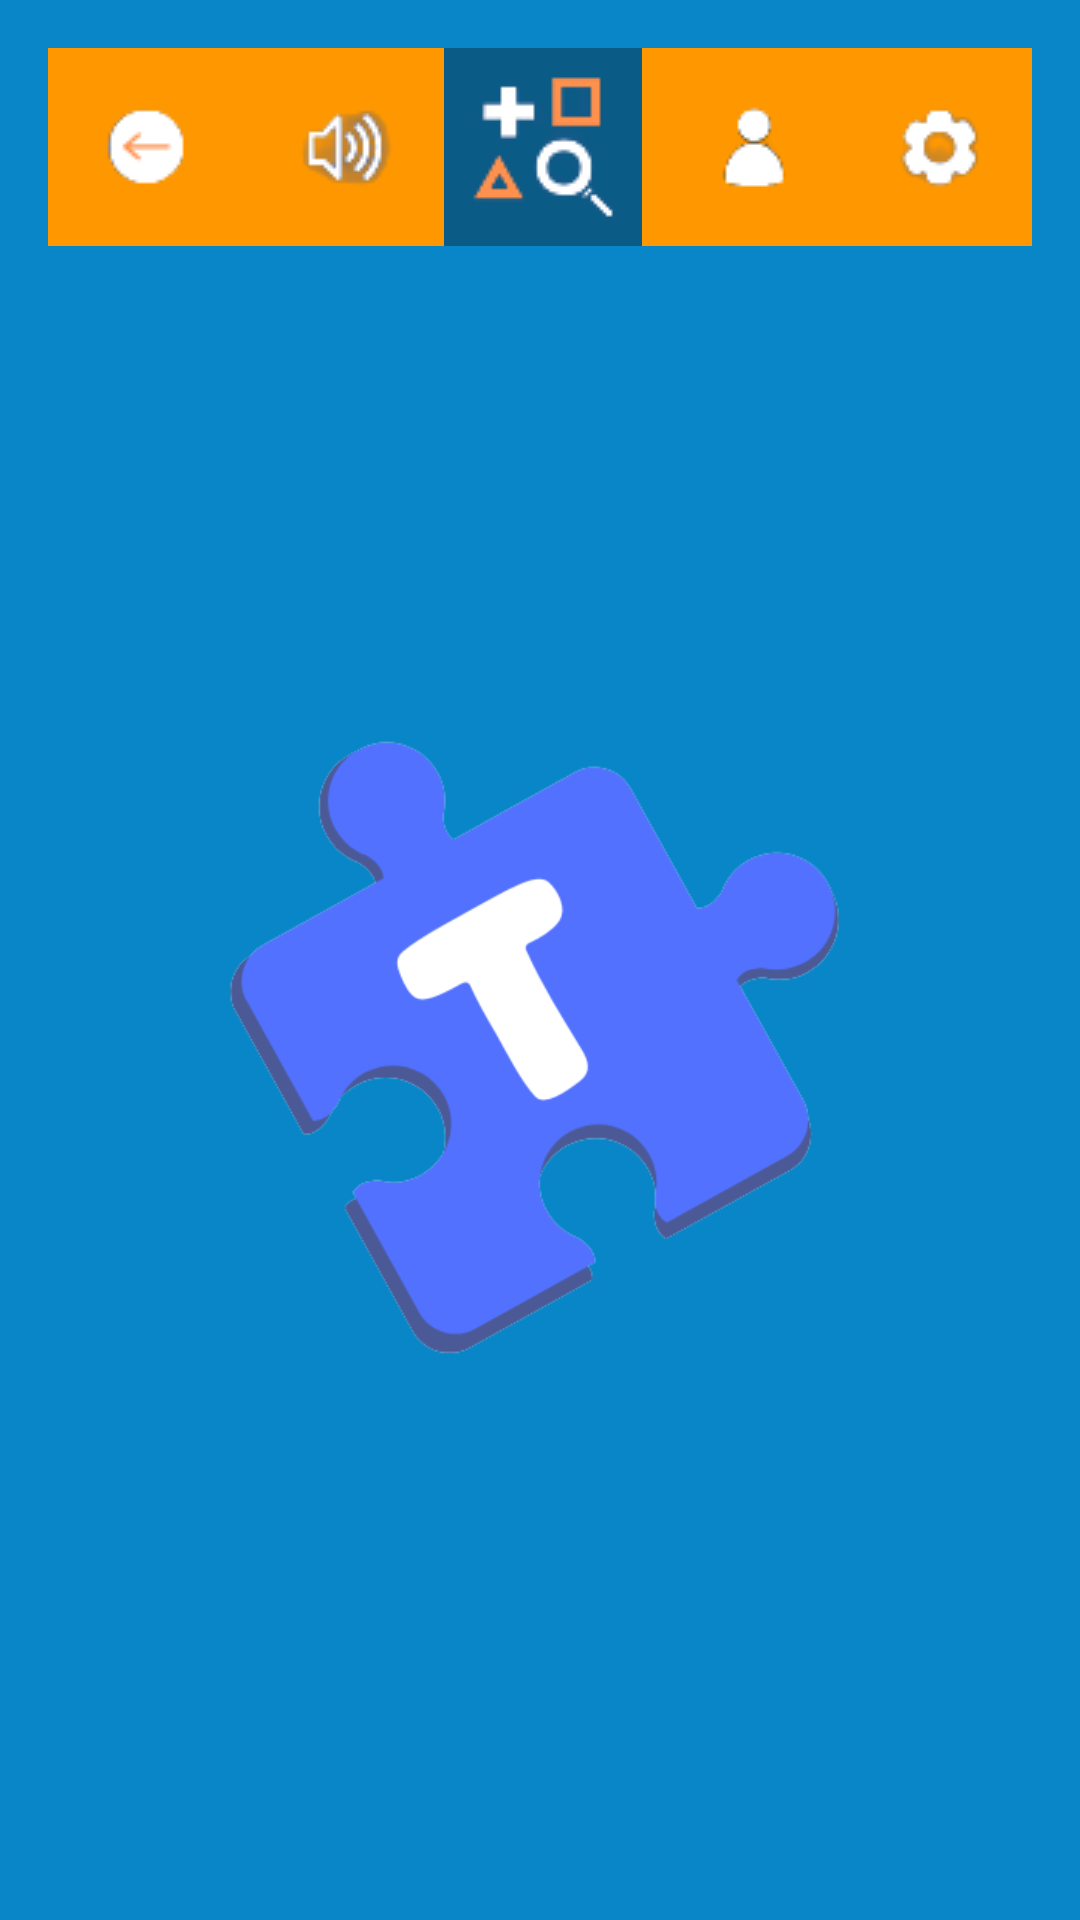

Icons on this 1080 x 1920 Android screen, each with the point to tap as (x=x, y=y):
button profile description: (x=741, y=147)
button settings description: (x=936, y=147)
